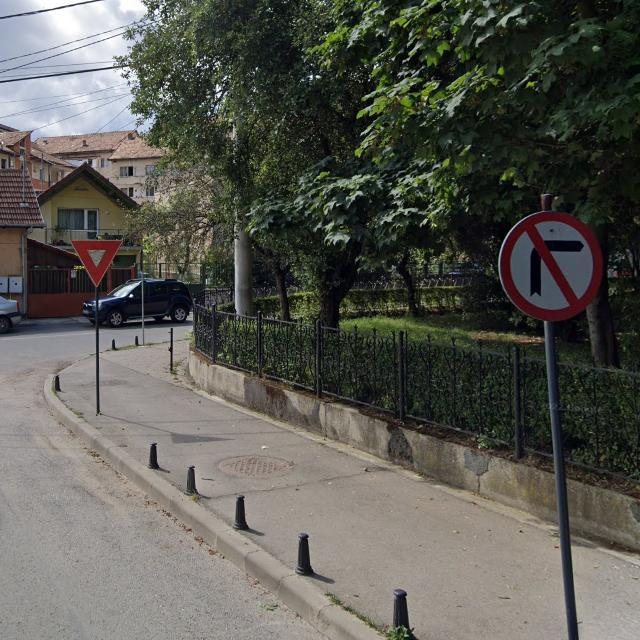forb_right: (495, 209, 606, 321)
prio_give_way: (70, 239, 122, 287)
